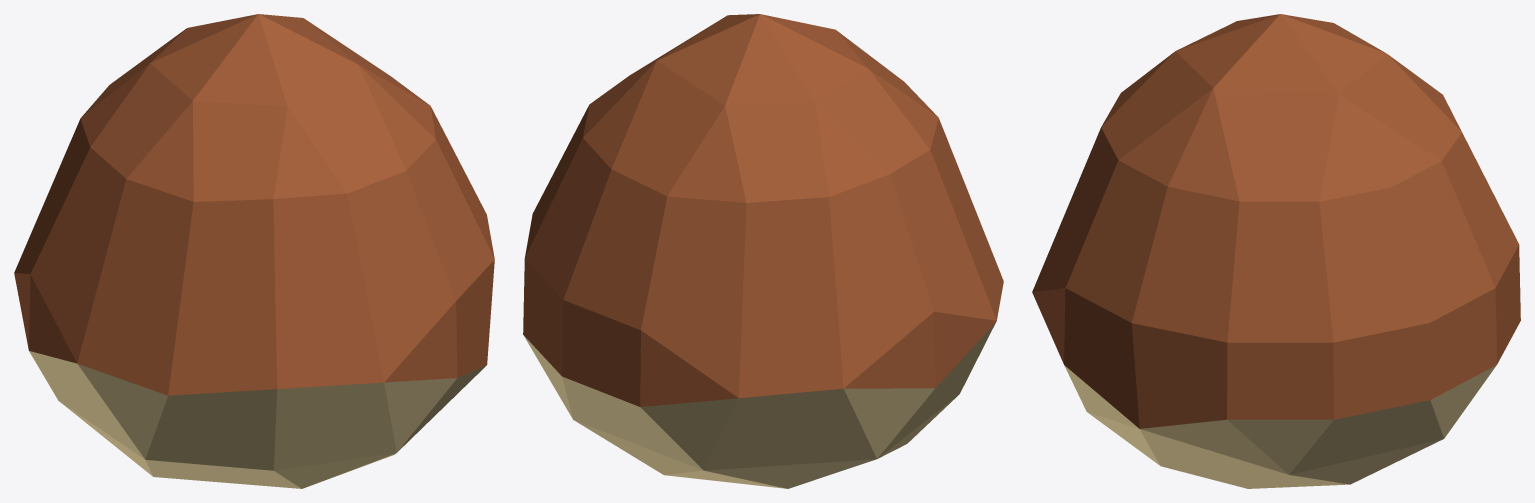
Rendered from Seed_Triangles_V1.fbx.
The picture shows the model from 3 angles, left to right: view 1: azimuth 30°, elevation 25°; view 2: azimuth 150°, elevation 25°; view 3: azimuth 270°, elevation 25°; orthographic projection.
Parts seen in each view (by area): view 1: Seed_V1.001; view 2: Seed_V1.001; view 3: Seed_V1.001.
Part boxes in pixels (x1,y1,x2,y2): Seed_V1.001: [14, 14, 494, 488]; Seed_V1.001: [523, 14, 1003, 488]; Seed_V1.001: [1032, 14, 1520, 488].
Bounding box in the file's own units: 216 × 215 × 222.
